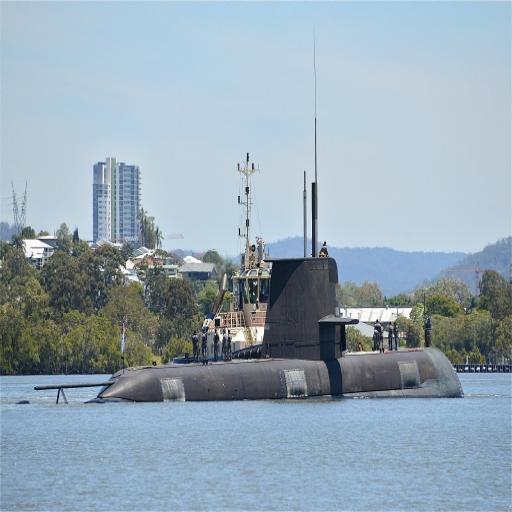submarine: (95, 254, 466, 401)
